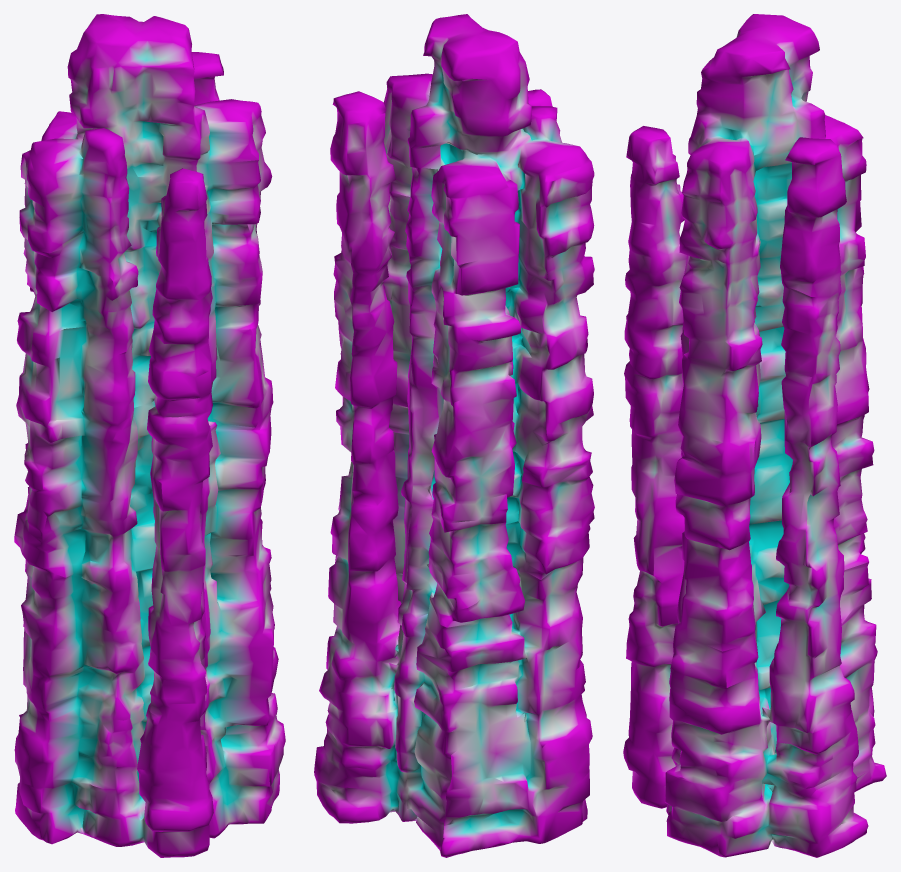
The model's file is Macico_4_Longe.fbx.
The picture shows the model from 3 angles, left to right: view 1: azimuth 30°, elevation 25°; view 2: azimuth 150°, elevation 25°; view 3: azimuth 270°, elevation 25°; orthographic projection. The views are drawn at different scales.
Parts seen in each view (by area): view 1: Macico_4_Longe; view 2: Macico_4_Longe; view 3: Macico_4_Longe.
Boxes of the visible parts, <box> form: Macico_4_Longe: <box>14,14,285,857</box>; Macico_4_Longe: <box>314,14,594,857</box>; Macico_4_Longe: <box>623,14,886,857</box>.
Size of the model in its own units: 124 by 383 by 118.
